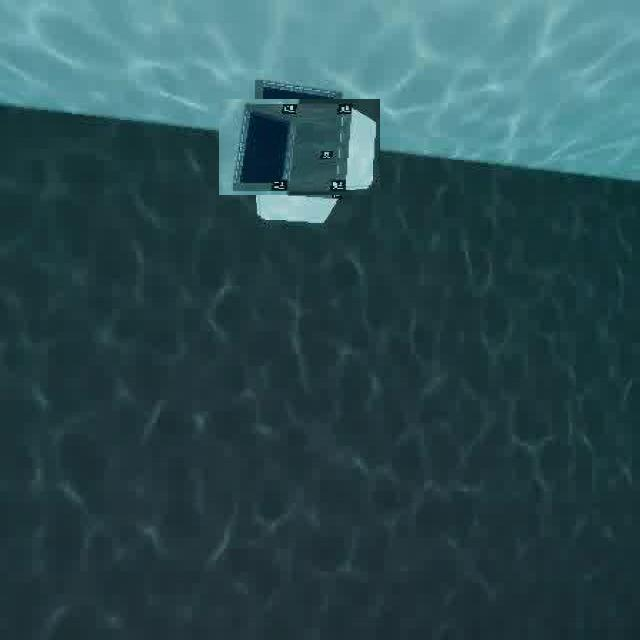Docking Station: (234, 82, 364, 212)
